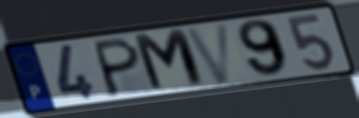4: (55, 42, 100, 102)
5: (283, 11, 338, 73)
9: (237, 17, 293, 80)
M: (130, 26, 210, 95)
P: (93, 35, 142, 99)
V: (182, 20, 234, 87)
